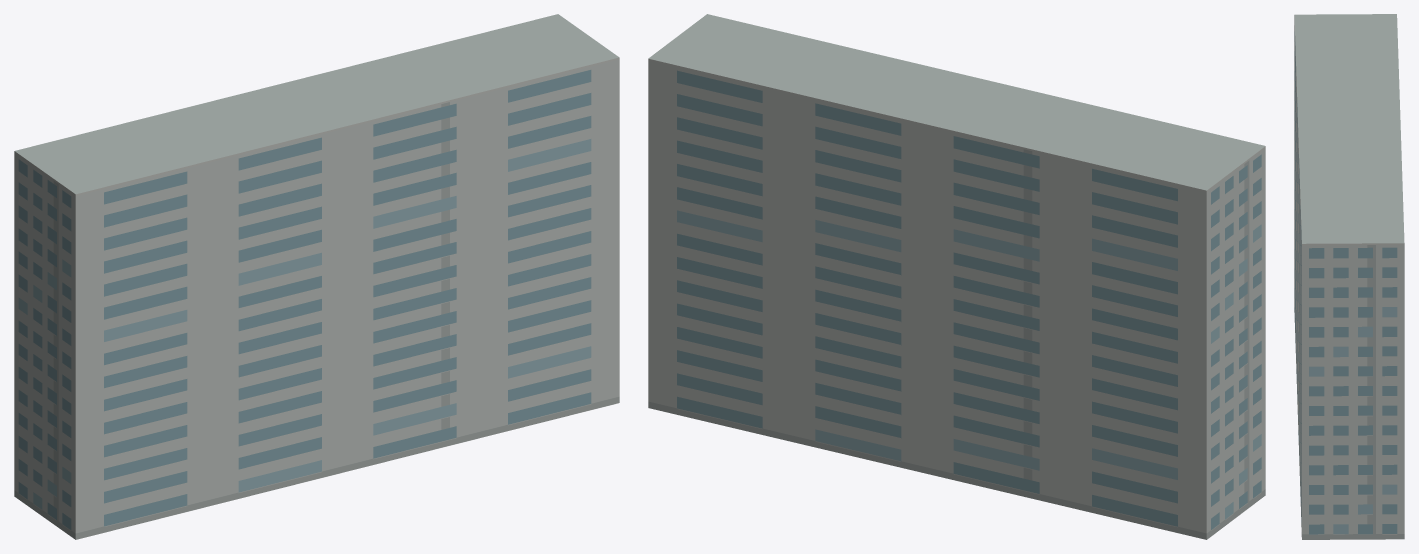
File: residential-d896d45b-1fa7-486e-b5b0-080d39b04ef5.glb
The picture shows the model from 3 angles, left to right: view 1: azimuth 30°, elevation 25°; view 2: azimuth 150°, elevation 25°; view 3: azimuth 270°, elevation 25°; orthographic projection. The views are drawn at different scales.
Visible parts, largest first — view 1: residential-d896d45b-1fa7-486e-b5b0-080d39b04ef5.tmp; view 2: residential-d896d45b-1fa7-486e-b5b0-080d39b04ef5.tmp; view 3: residential-d896d45b-1fa7-486e-b5b0-080d39b04ef5.tmp.
Part boxes in pixels (bbox=[...]): residential-d896d45b-1fa7-486e-b5b0-080d39b04ef5.tmp: bbox=[14, 14, 619, 539]; residential-d896d45b-1fa7-486e-b5b0-080d39b04ef5.tmp: bbox=[648, 14, 1265, 539]; residential-d896d45b-1fa7-486e-b5b0-080d39b04ef5.tmp: bbox=[1294, 14, 1404, 539].
Size of the model in its own units: 76.16 by 45.75 by 15.42.
